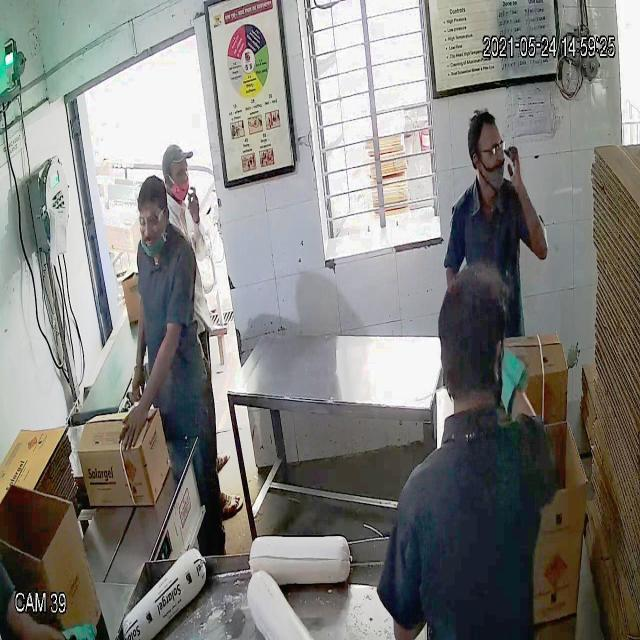glasses: (467, 135, 509, 165), (136, 206, 168, 235)
